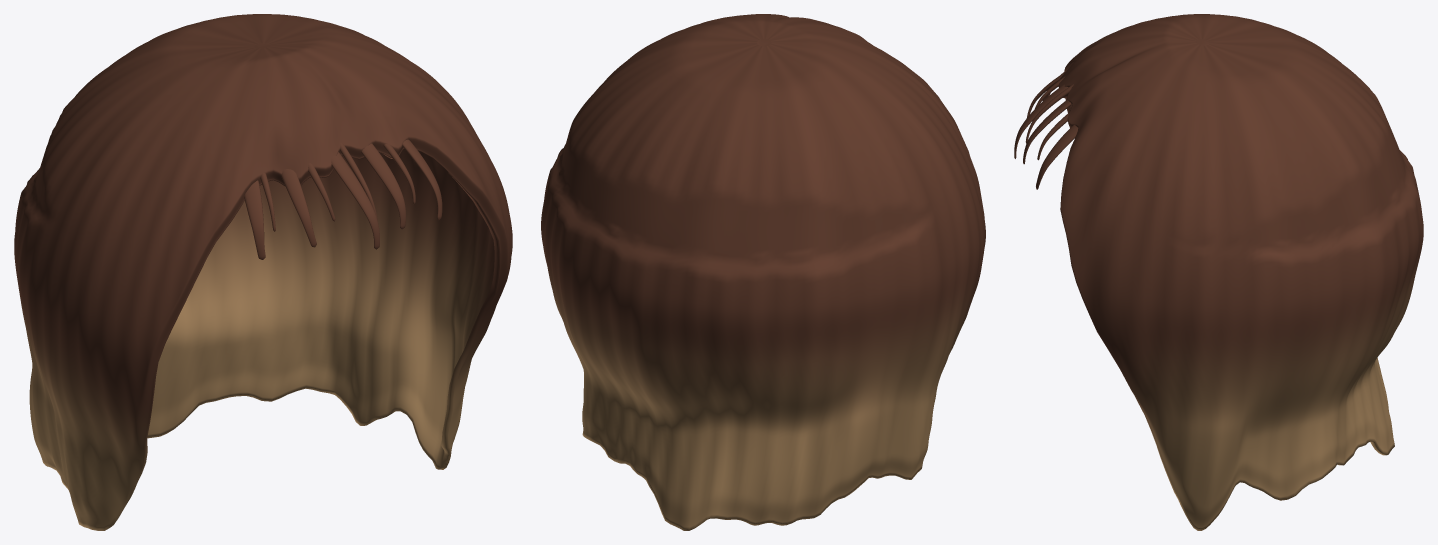
Rendered from side-sweep-bucket-ombre.glb.
The picture shows the model from 3 angles, left to right: view 1: azimuth 30°, elevation 25°; view 2: azimuth 150°, elevation 25°; view 3: azimuth 270°, elevation 25°; orthographic projection. The views are drawn at different scales.
Visible parts, largest first — view 1: Hair / layered lob, Fringe / arched wisp 05, Fringe / arched wisp 07, Fringe / arched wisp 01, Fringe / arched wisp 03, Fringe / arched wisp 09; view 2: Hair / layered lob; view 3: Hair / layered lob, Fringe / arched wisp 09.
Boxes of the visible parts, bbox=[...] form: Hair / layered lob: bbox=[14, 14, 512, 530]; Fringe / arched wisp 05: bbox=[331, 152, 379, 249]; Fringe / arched wisp 07: bbox=[361, 143, 405, 229]; Fringe / arched wisp 01: bbox=[244, 180, 265, 259]; Fringe / arched wisp 03: bbox=[281, 169, 316, 247]; Fringe / arched wisp 09: bbox=[402, 139, 442, 220]; Hair / layered lob: bbox=[541, 14, 985, 530]; Hair / layered lob: bbox=[1058, 14, 1423, 530]; Fringe / arched wisp 09: bbox=[1036, 125, 1078, 189].
Size of the model in its own units: 0.8388 by 0.8731 by 0.7759.
